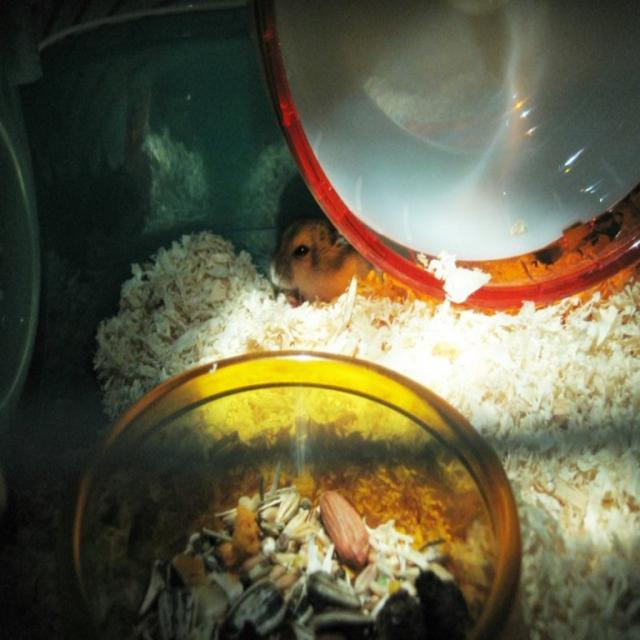rat: (264, 210, 366, 313)
